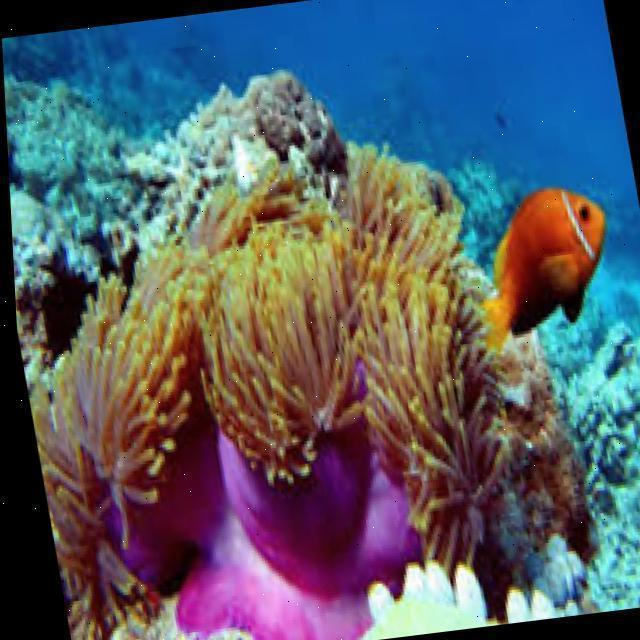Healthy Coral: (47, 160, 513, 568)
